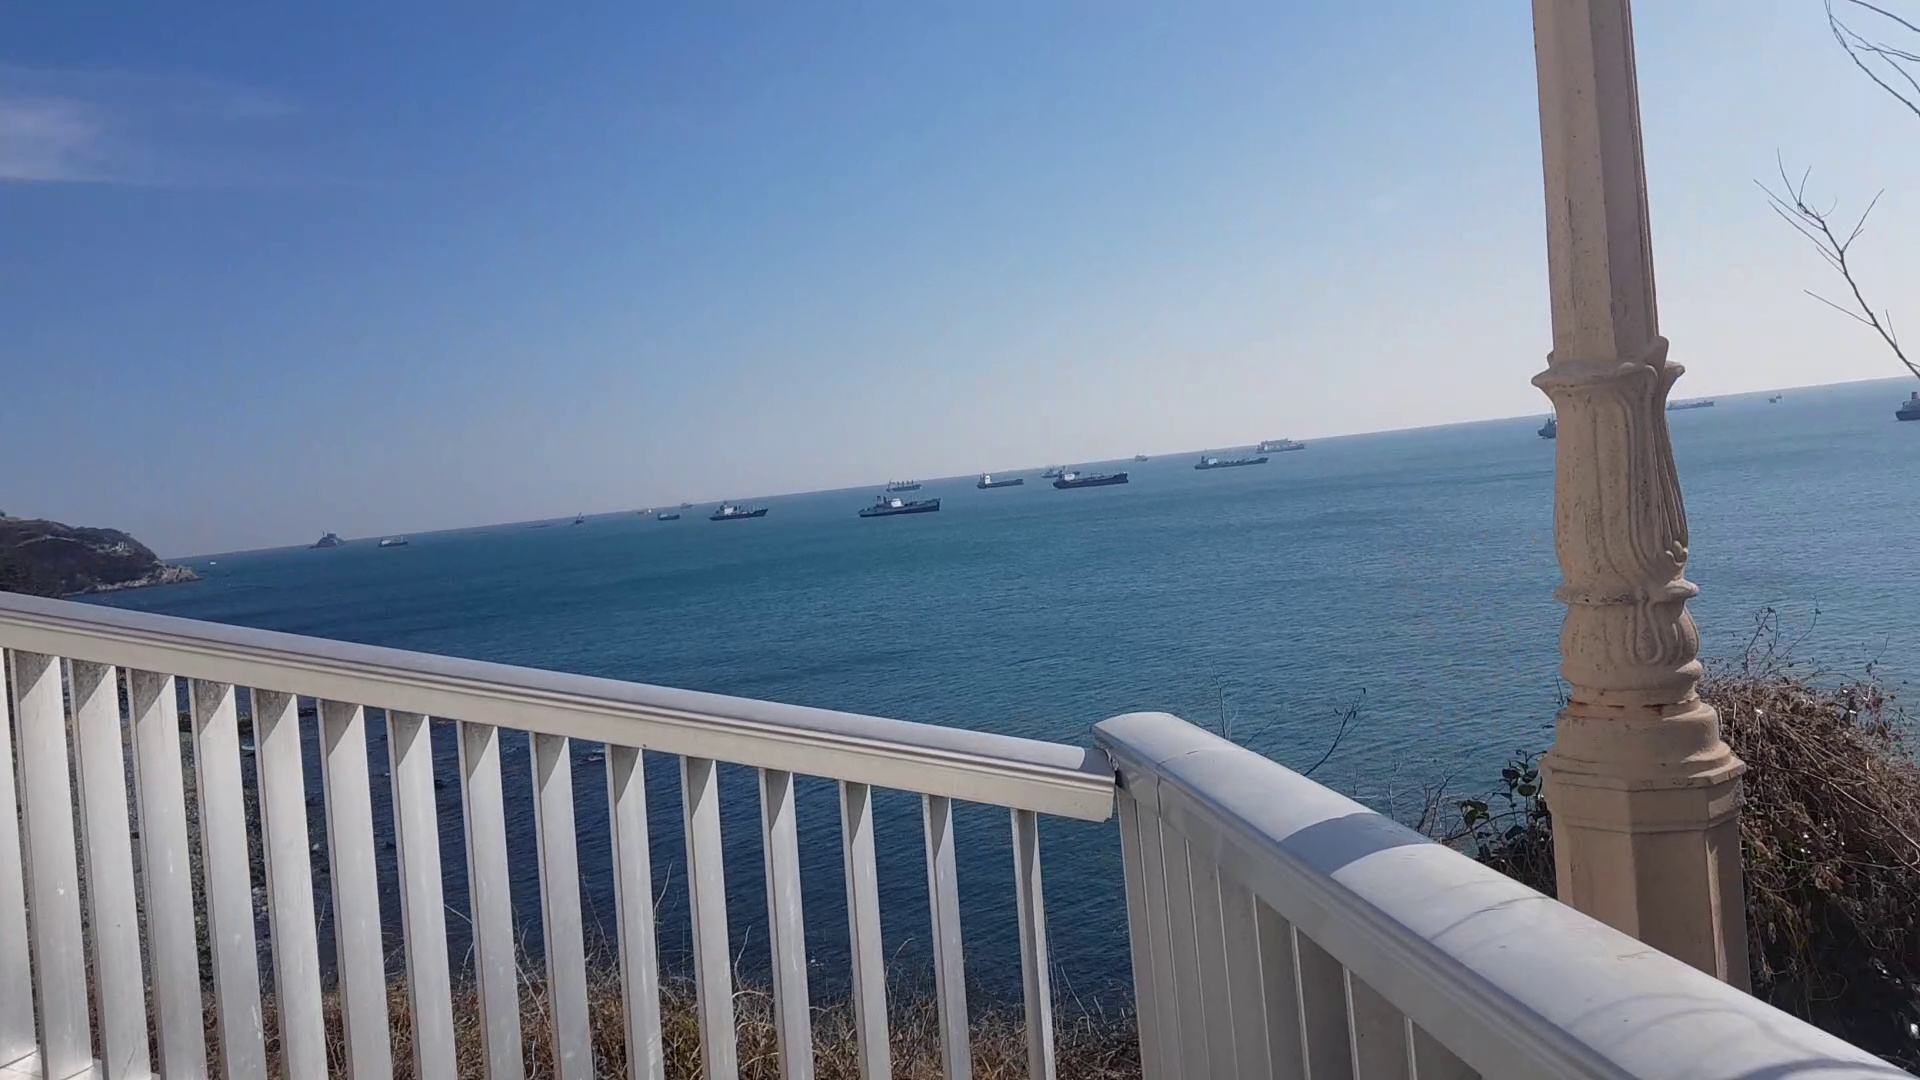Bulk_Carrier: (1051, 475, 1129, 491), (708, 504, 767, 520)
